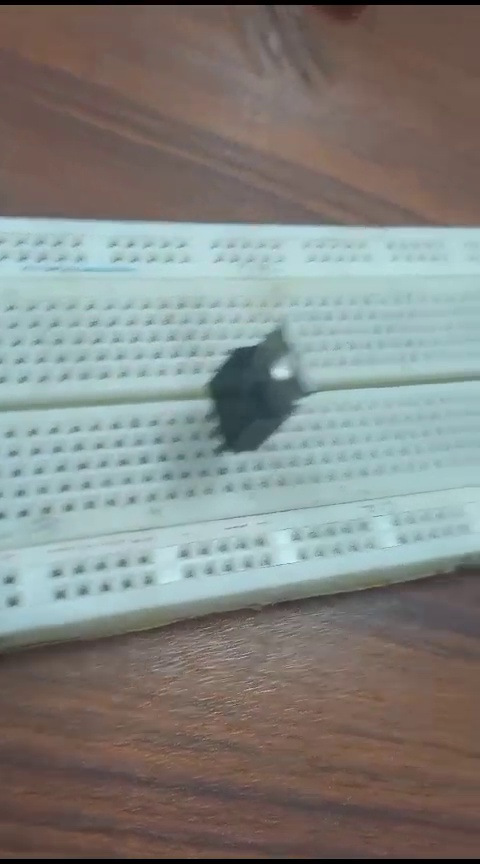voltage regulator: (188, 324, 310, 468)
